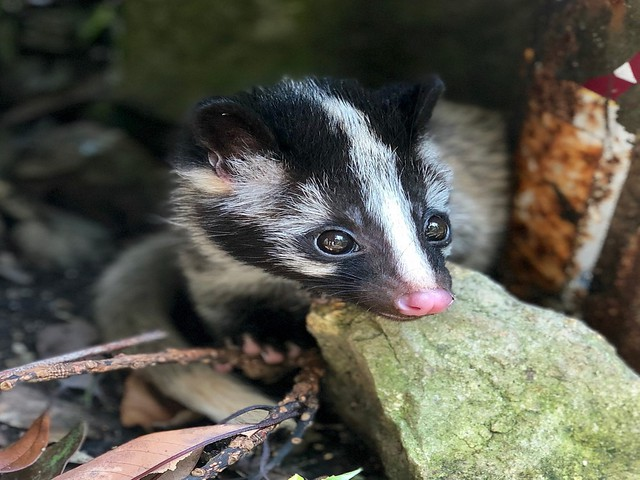civet: (119, 72, 466, 322)
